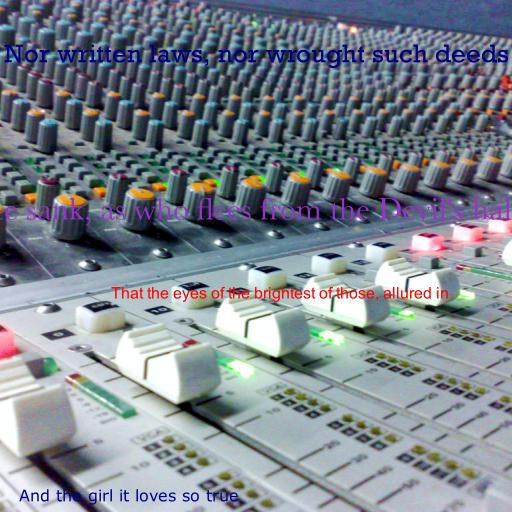Arial: (111, 286, 449, 302)
Baskerville: (0, 197, 512, 226)
Rockwell: (3, 44, 509, 69)
Verdana: (19, 489, 239, 505)
